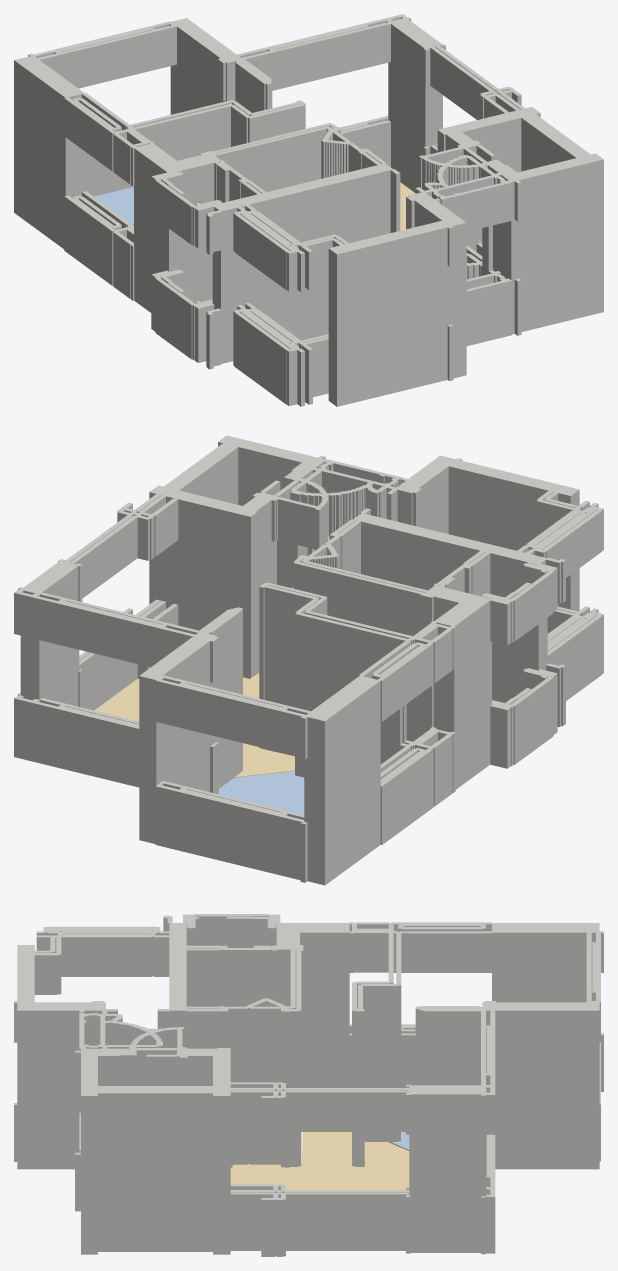
The picture shows the model from 3 angles, top to bottom: view 1: azimuth 30°, elevation 25°; view 2: azimuth 150°, elevation 25°; view 3: azimuth 270°, elevation 25°; orthographic projection. The views are drawn at different scales.
Parts seen in each view (by area): view 1: walls, room:bedroom:6; view 2: walls, room:living:5, room:bedroom:6; view 3: walls, room:living:5.
Boxes of the visible parts, bbox=[...] form: walls: bbox=[14, 14, 603, 406]; room:bedroom:6: bbox=[94, 187, 133, 222]; walls: bbox=[14, 435, 603, 885]; room:living:5: bbox=[94, 673, 294, 777]; room:bedroom:6: bbox=[219, 771, 304, 814]; walls: bbox=[14, 914, 603, 1256]; room:living:5: bbox=[230, 1132, 409, 1189].
Size of the model in its own units: 6.96 by 2.8 by 9.43.
